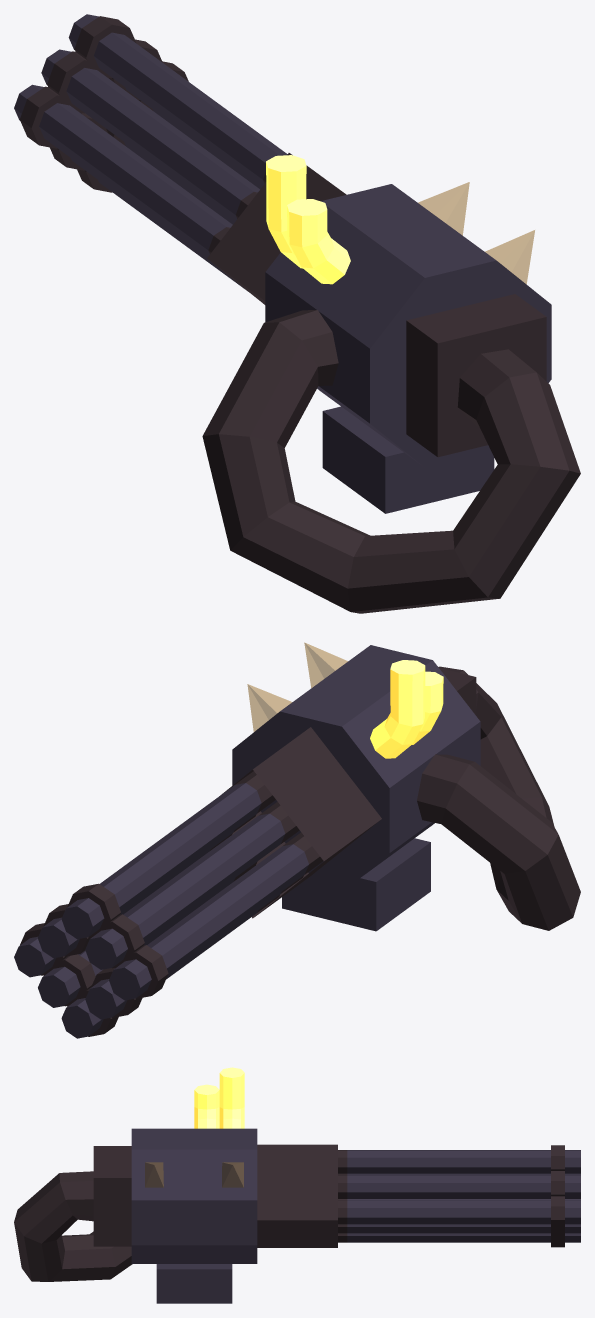
Rendered from Chaingun.glb.
3 renders of one model, top to bottom at view 1: azimuth 30°, elevation 25°; view 2: azimuth 150°, elevation 25°; view 3: azimuth 270°, elevation 25°, orthographic. The views are drawn at different scales.
Visible parts, largest first — view 1: CGunTube, CGunBarrel, CGunBase, CGunPipeConnector, CGunAmmo, CGunExhaust, CGunPipeCover; view 2: CGunBarrel, CGunBase, CGunTube, CGunPipeCover, CGunAmmo, CGunExhaust, CGunPipeConnector; view 3: CGunBarrel, CGunBase, CGunPipeCover, CGunTube, CGunPipeConnector, CGunAmmo, CGunExhaust.
Part boxes in pixels (left/top/right/bottom): CGunTube: left=202, top=310, right=580, bottom=613; CGunBarrel: left=14, top=14, right=287, bottom=290; CGunBase: left=265, top=182, right=551, bottom=467; CGunPipeConnector: left=406, top=294, right=546, bottom=457; CGunAmmo: left=322, top=406, right=494, bottom=513; CGunExhaust: left=266, top=155, right=350, bottom=284; CGunPipeCover: left=207, top=153, right=346, bottom=304; CGunBarrel: left=14, top=771, right=323, bottom=1038; CGunBase: left=232, top=642, right=480, bottom=891; CGunTube: left=417, top=666, right=580, bottom=930; CGunPipeCover: left=222, top=727, right=381, bottom=918; CGunAmmo: left=282, top=838, right=430, bottom=931; CGunExhaust: left=370, top=660, right=443, bottom=758; CGunPipeConnector: left=439, top=668, right=476, bottom=715; CGunBarrel: left=338, top=1145, right=580, bottom=1247; CGunBase: left=131, top=1128, right=257, bottom=1263; CGunPipeCover: left=257, top=1144, right=337, bottom=1247; CGunTube: left=14, top=1171, right=132, bottom=1281; CGunPipeConnector: left=93, top=1146, right=131, bottom=1246; CGunAmmo: left=156, top=1264, right=232, bottom=1303; CGunExhaust: left=194, top=1067, right=244, bottom=1128.
Bounding box in the file's own units: 3.39 × 3.8 × 9.01.
